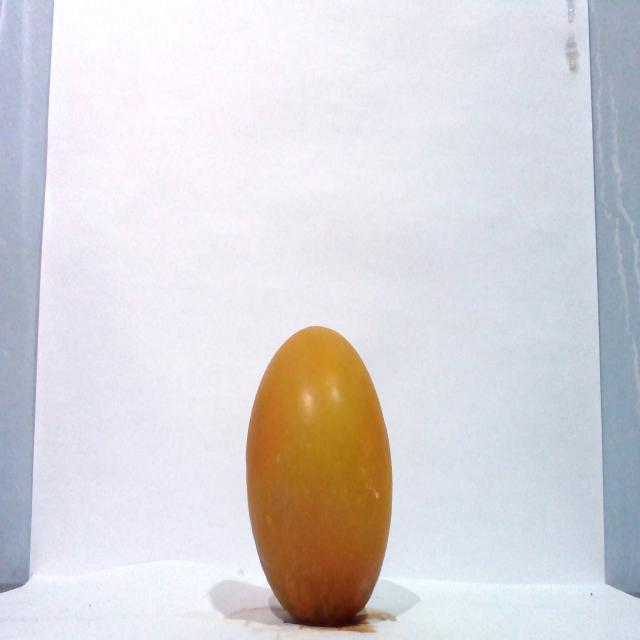Red: (243, 324, 394, 626)
